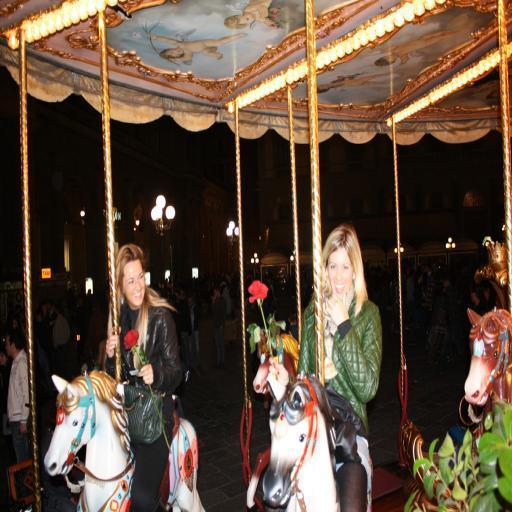horse: (43, 372, 206, 512), (263, 374, 372, 512), (462, 304, 510, 433)
